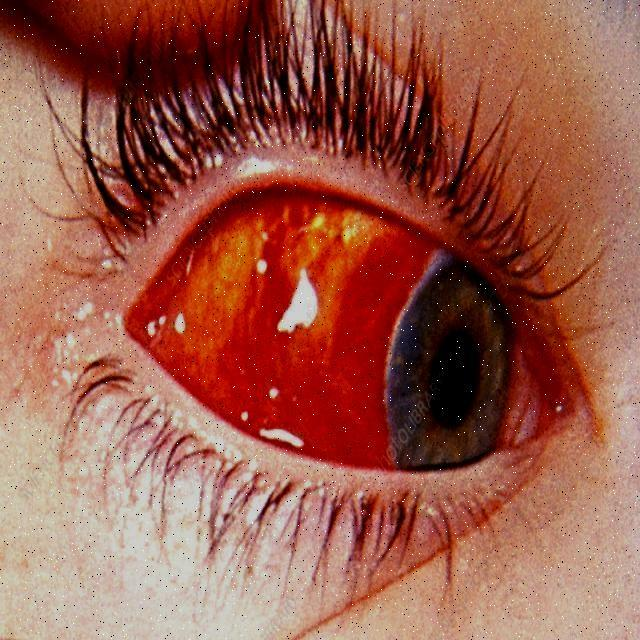Conjunctivitis: (118, 192, 465, 448)
